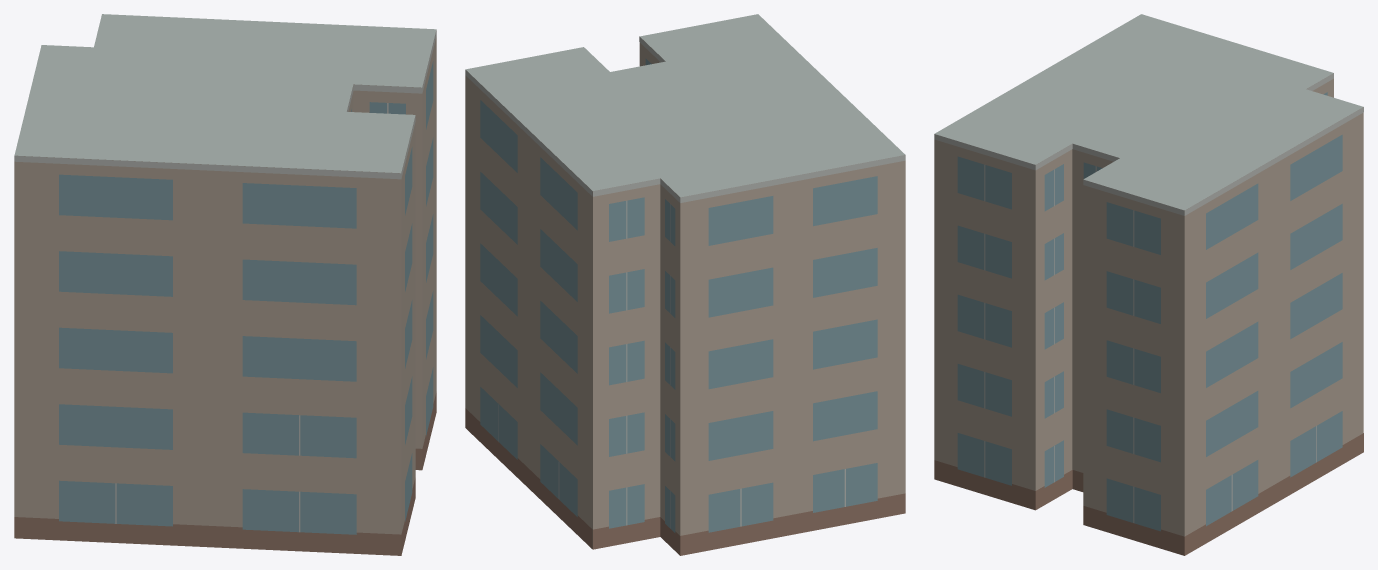
The model's file is survey-upis-32773957.glb.
3 renders of one model, left to right at view 1: azimuth 30°, elevation 25°; view 2: azimuth 150°, elevation 25°; view 3: azimuth 270°, elevation 25°, orthographic. The views are drawn at different scales.
Parts seen in each view (by area): view 1: survey-upis-32773957.tmp; view 2: survey-upis-32773957.tmp; view 3: survey-upis-32773957.tmp.
Part boxes in pixels (x1,y1,x2,y2): survey-upis-32773957.tmp: [14, 14, 436, 555]; survey-upis-32773957.tmp: [465, 14, 905, 555]; survey-upis-32773957.tmp: [934, 14, 1363, 555].
Size of the model in its own units: 18.61 by 15.25 by 17.19.
